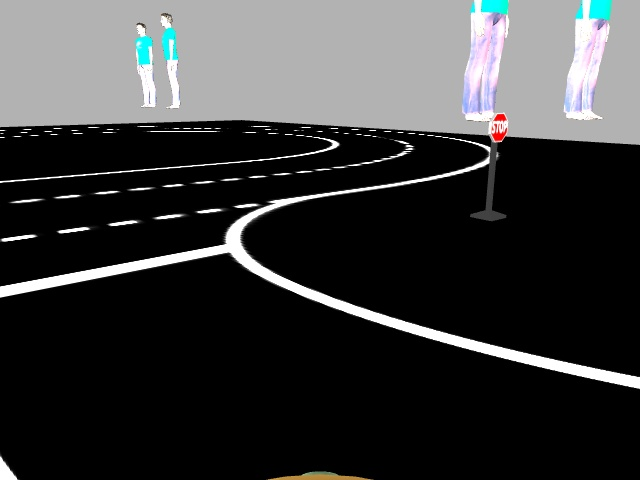Stop: (489, 111, 507, 143)
